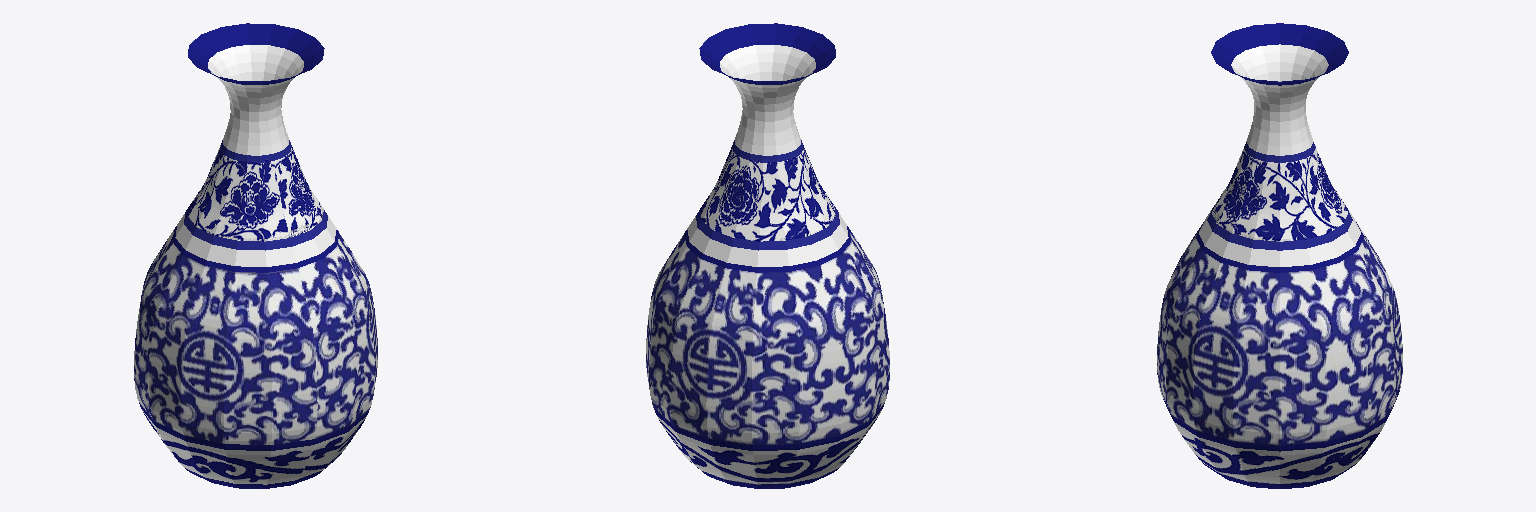
3 renders of one model, left to right at view 1: azimuth 30°, elevation 25°; view 2: azimuth 150°, elevation 25°; view 3: azimuth 270°, elevation 25°, orthographic.
Visible parts, largest first — view 1: Line01; view 2: Line01; view 3: Line01.
Part boxes in pixels (bbox=[...]): Line01: bbox=[134, 23, 377, 488]; Line01: bbox=[646, 23, 889, 488]; Line01: bbox=[1157, 23, 1402, 488].
Size of the model in its own units: 595 by 1085 by 595.
Materials: 1 (1 with a texture image).